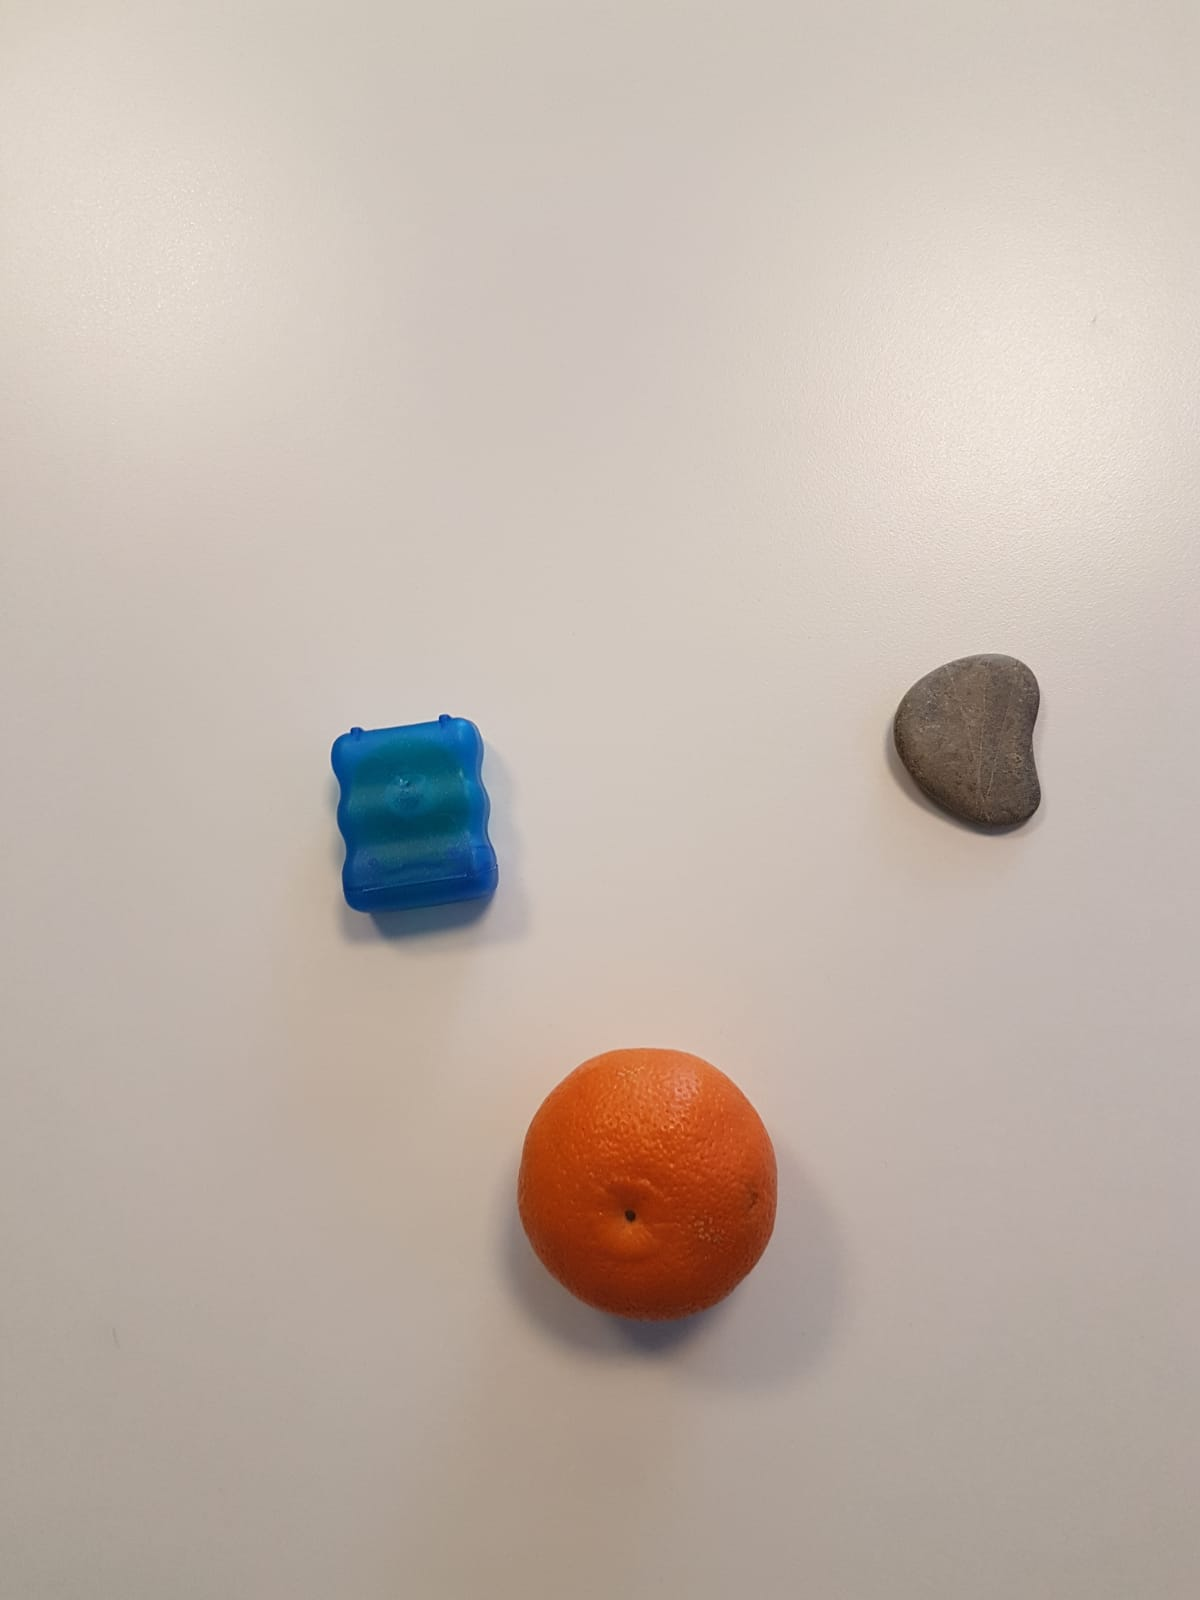Box: (326, 716, 502, 915)
Orange: (517, 1047, 779, 1327)
Stone: (887, 649, 1047, 835)
